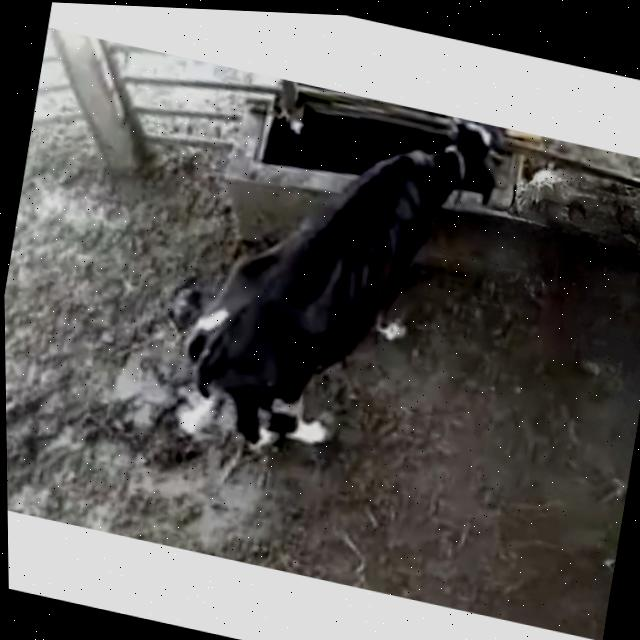drink: (350, 97, 519, 237)
